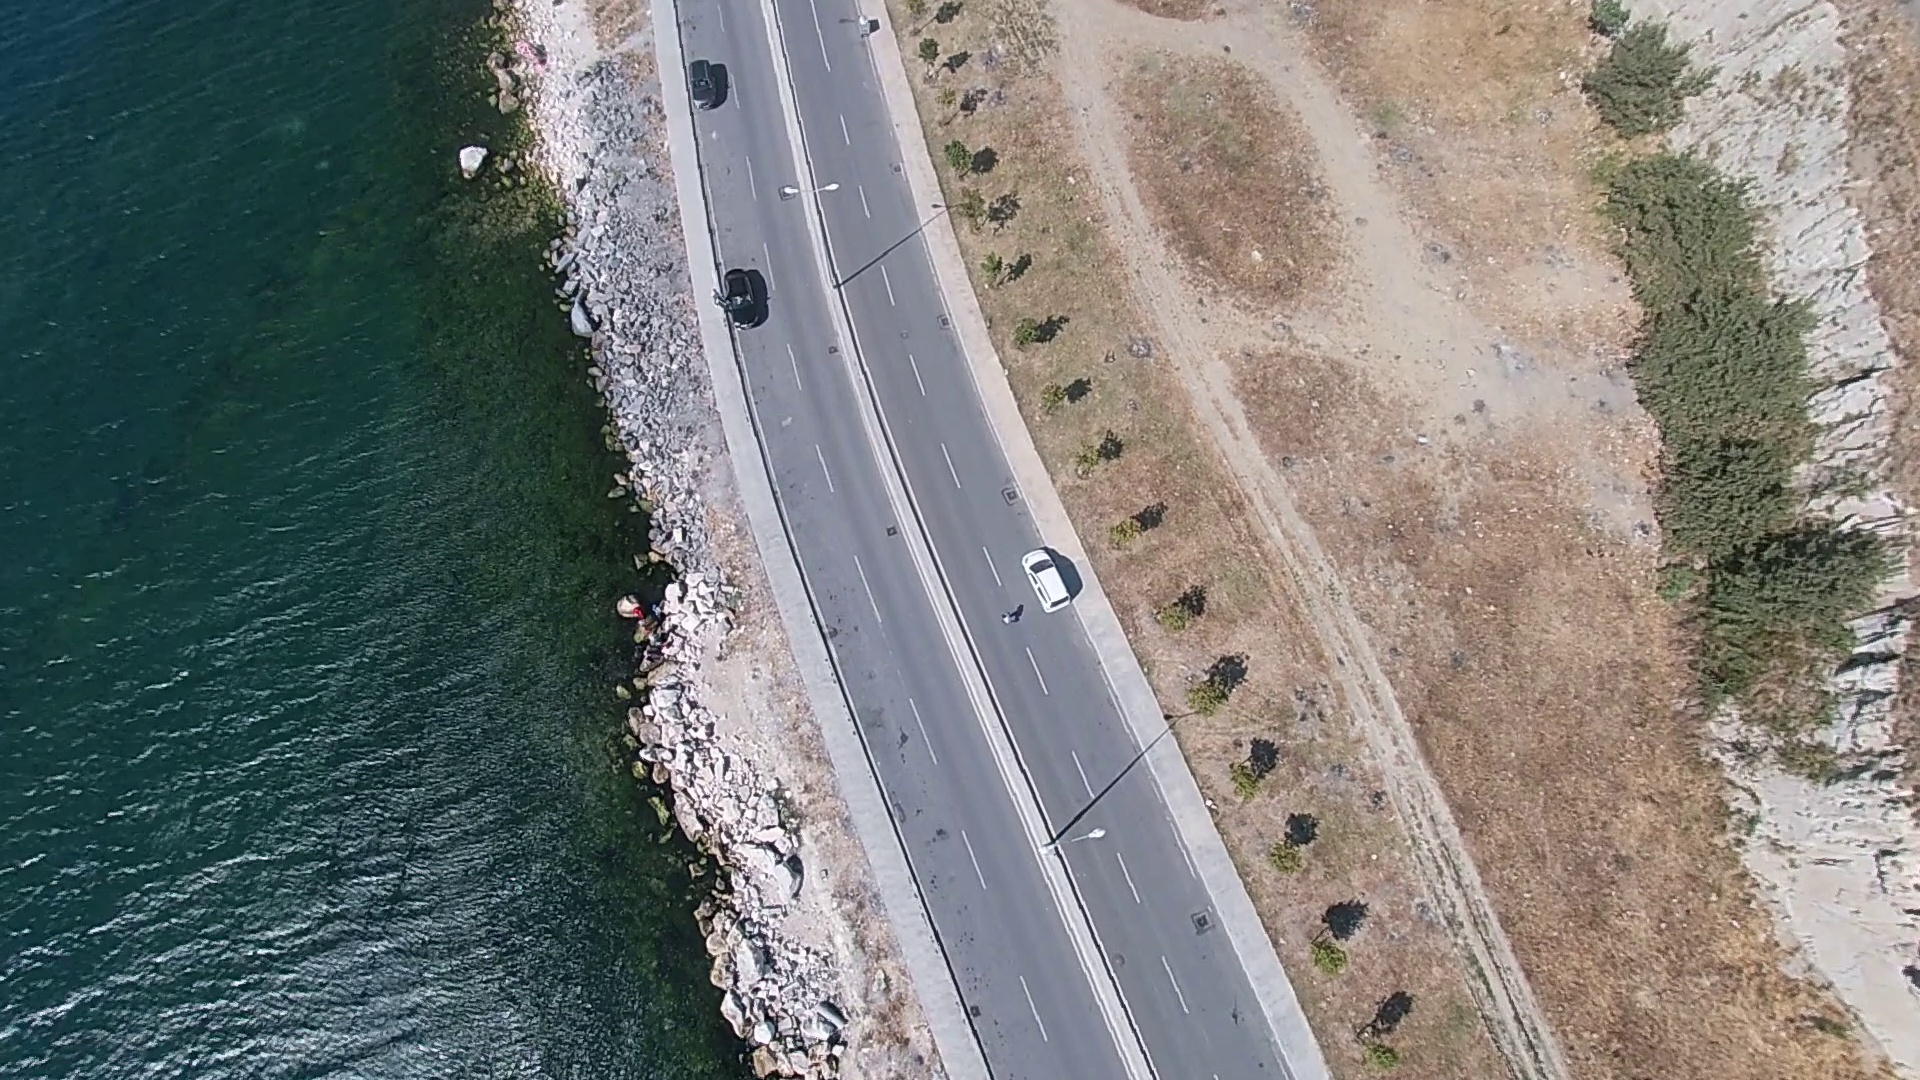arac: (1015, 542, 1077, 617), (715, 261, 769, 330), (688, 55, 731, 105)
